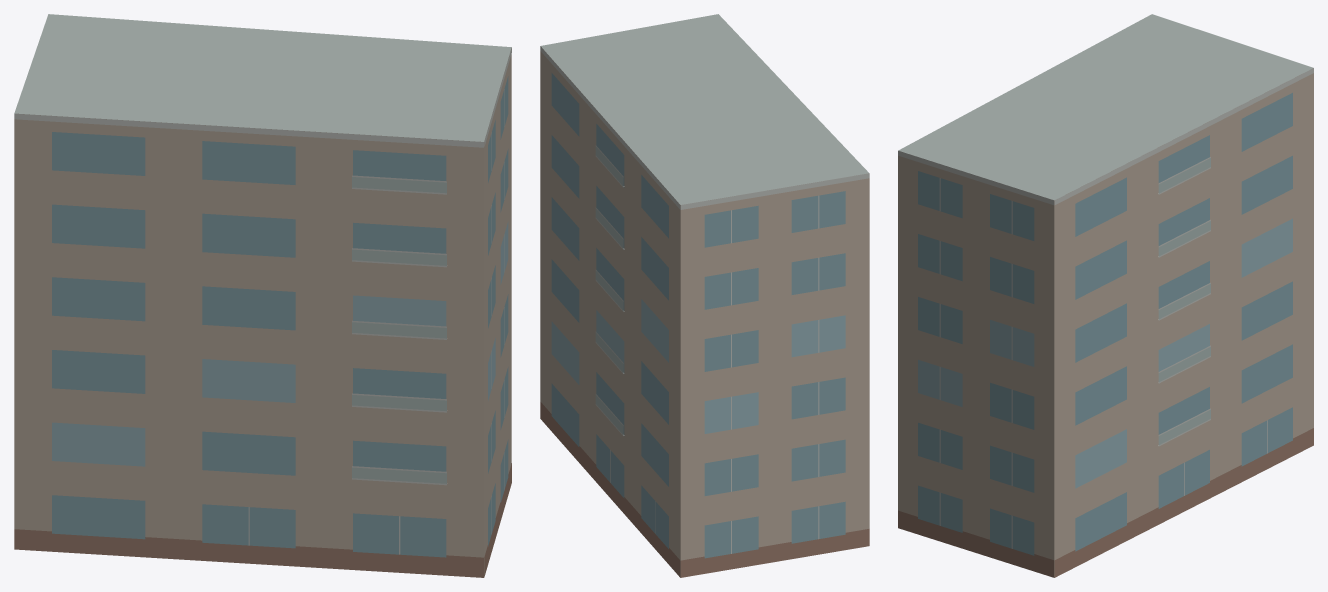
Rendered from survey-upis-32665214.glb.
The picture shows the model from 3 angles, left to right: view 1: azimuth 30°, elevation 25°; view 2: azimuth 150°, elevation 25°; view 3: azimuth 270°, elevation 25°; orthographic projection. The views are drawn at different scales.
Visible parts, largest first — view 1: survey-upis-32665214.tmp; view 2: survey-upis-32665214.tmp; view 3: survey-upis-32665214.tmp.
Boxes of the visible parts, x1,y1,x2,y2 form: survey-upis-32665214.tmp: [14, 14, 511, 577]; survey-upis-32665214.tmp: [540, 14, 869, 577]; survey-upis-32665214.tmp: [898, 14, 1313, 577].
Bounding box in the file's own units: 19.39 × 18.3 × 18.28.
